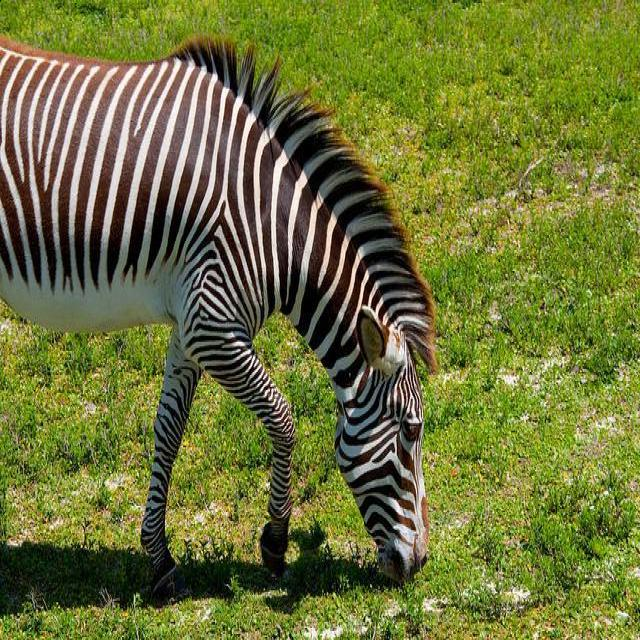zebra: (1, 30, 442, 601)
